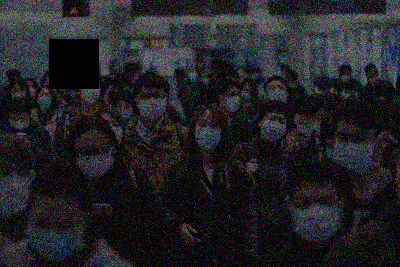with_mask: (26, 210, 85, 264), (293, 192, 342, 245), (333, 128, 378, 174), (76, 142, 113, 179), (194, 118, 222, 150), (137, 89, 164, 121), (260, 113, 286, 141), (80, 81, 100, 106), (223, 89, 241, 114), (268, 83, 287, 103), (294, 119, 314, 137), (9, 113, 28, 131), (116, 103, 133, 122), (35, 92, 51, 111), (10, 89, 25, 101), (241, 86, 253, 99)
